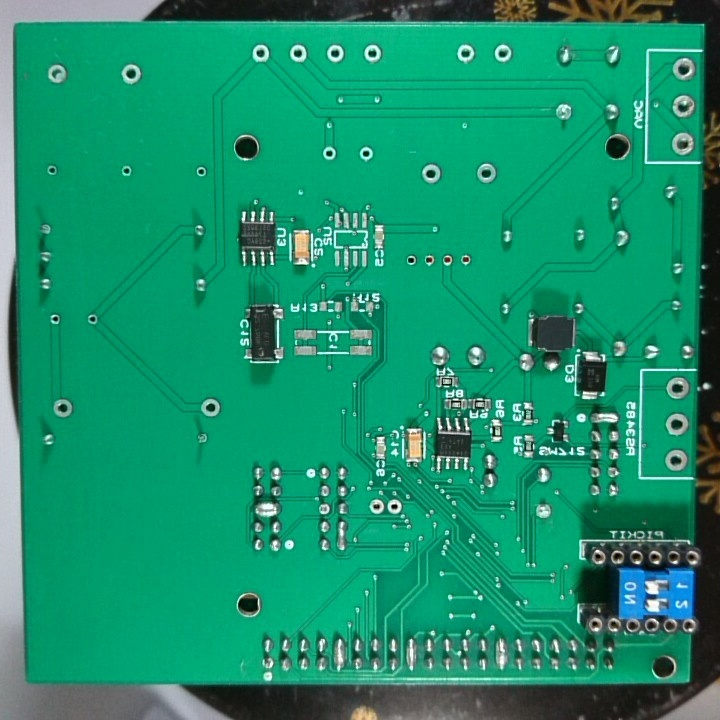F: (663, 374, 692, 403), (117, 59, 145, 89), (664, 412, 692, 441), (669, 129, 696, 159), (664, 444, 690, 475), (670, 55, 697, 84), (360, 40, 387, 68), (473, 161, 500, 189), (198, 394, 224, 422), (671, 92, 696, 121), (418, 160, 444, 186), (44, 60, 69, 87), (490, 40, 514, 67), (250, 42, 275, 67), (453, 41, 477, 67), (50, 395, 74, 421), (324, 41, 348, 66), (553, 100, 575, 126), (532, 498, 554, 523), (288, 41, 309, 66), (366, 495, 386, 520), (385, 494, 403, 519), (356, 142, 376, 163), (35, 219, 56, 238), (320, 143, 339, 164), (191, 160, 210, 180), (118, 161, 136, 182), (421, 250, 437, 272), (459, 249, 474, 272), (440, 249, 454, 273), (259, 654, 276, 672), (403, 252, 419, 271), (85, 310, 100, 330), (194, 429, 210, 447), (47, 310, 61, 329), (316, 501, 331, 518), (45, 163, 59, 178)
P: (330, 634, 347, 671), (493, 635, 509, 673), (589, 408, 621, 427), (252, 501, 284, 518), (335, 518, 350, 553), (403, 633, 416, 672)
